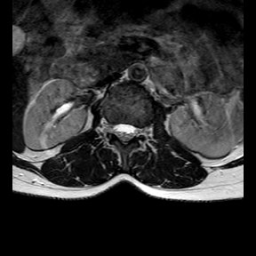CCS_normal: (119, 112, 128, 152)
LFS_normal: (137, 113, 145, 143)
LLS_normal: (128, 113, 137, 144)
RFS_normal: (103, 111, 112, 140)
RLS_normal: (111, 113, 119, 143)
